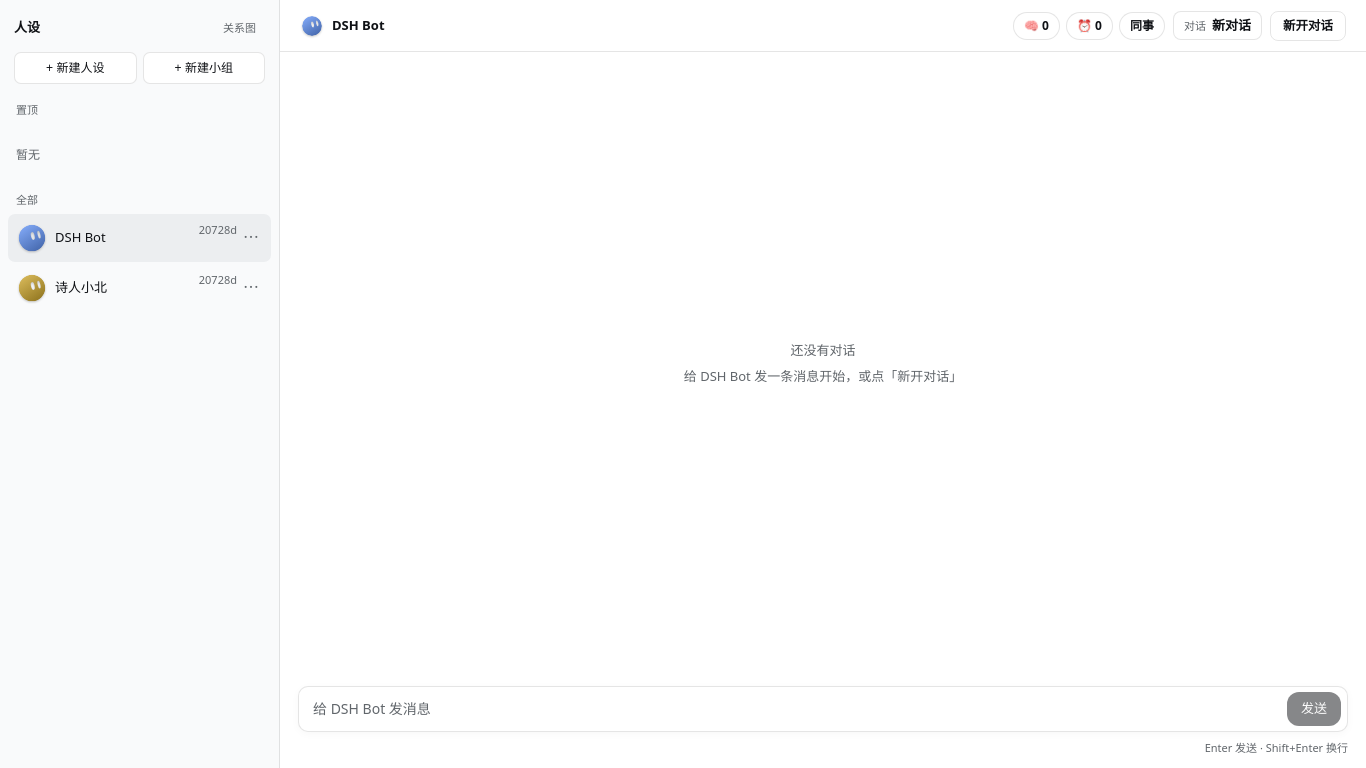
Test case: App roster load › shows an inline error bar when delete fails and keeps the row
The width and height of the screenshot is (1366, 768).
Expected: the element with test id "roster-row-shiren-xiaobei" is shown, [8,264,271,312]
Click the button with test id "roster-menu-shiren-xiaobei" at [251, 288], box [239,276,263,300]
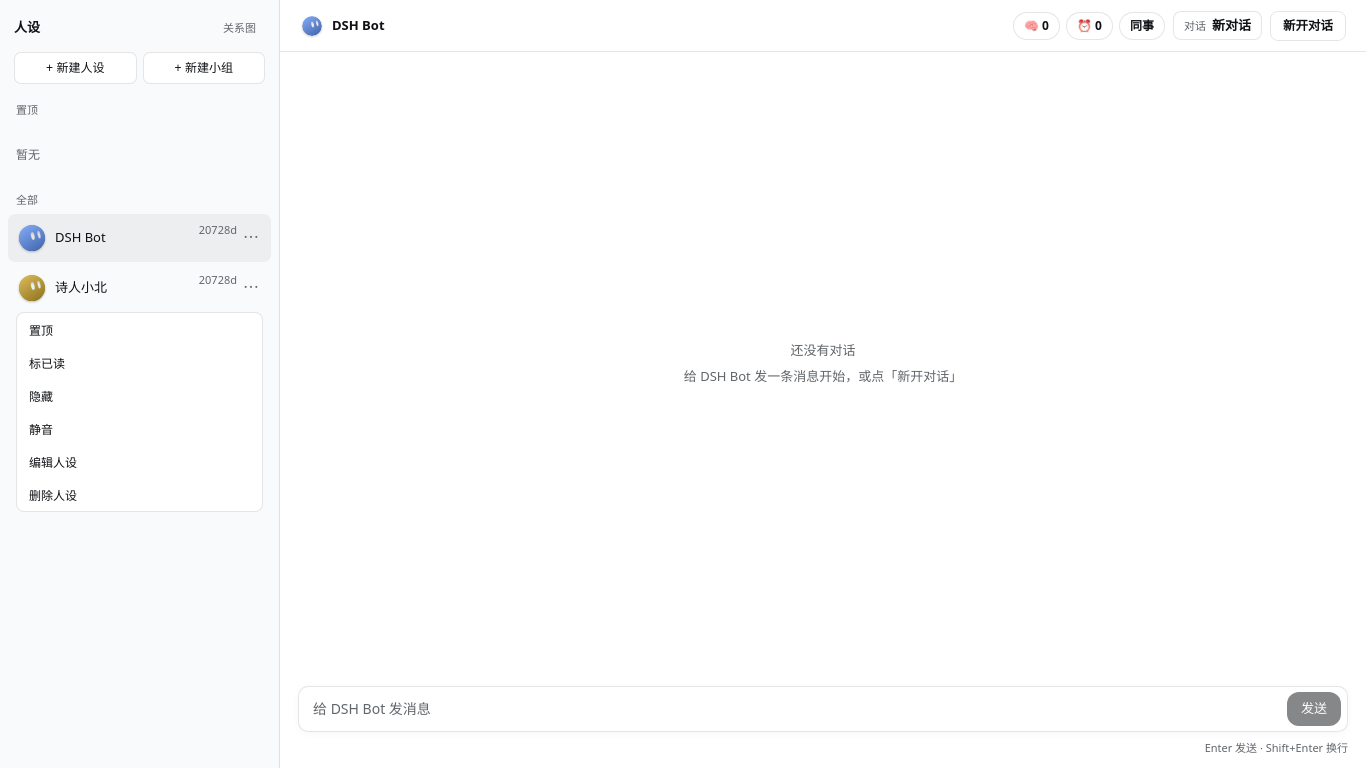
Click the button with test id "roster-delete-shiren-xiaobei" at [140, 494], box [17,478,262,511]
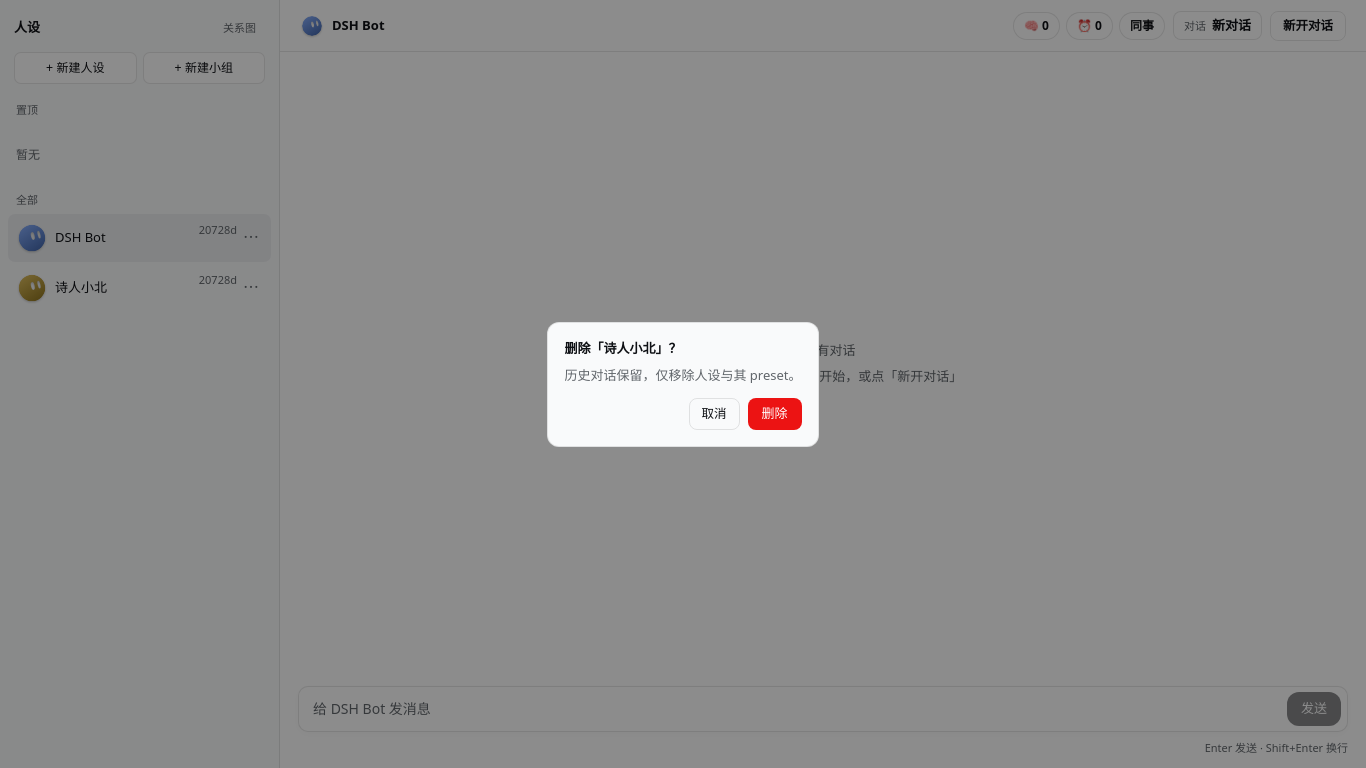
Click the button with test id "roster-delete-ok" at [774, 414], box [748,398,802,430]
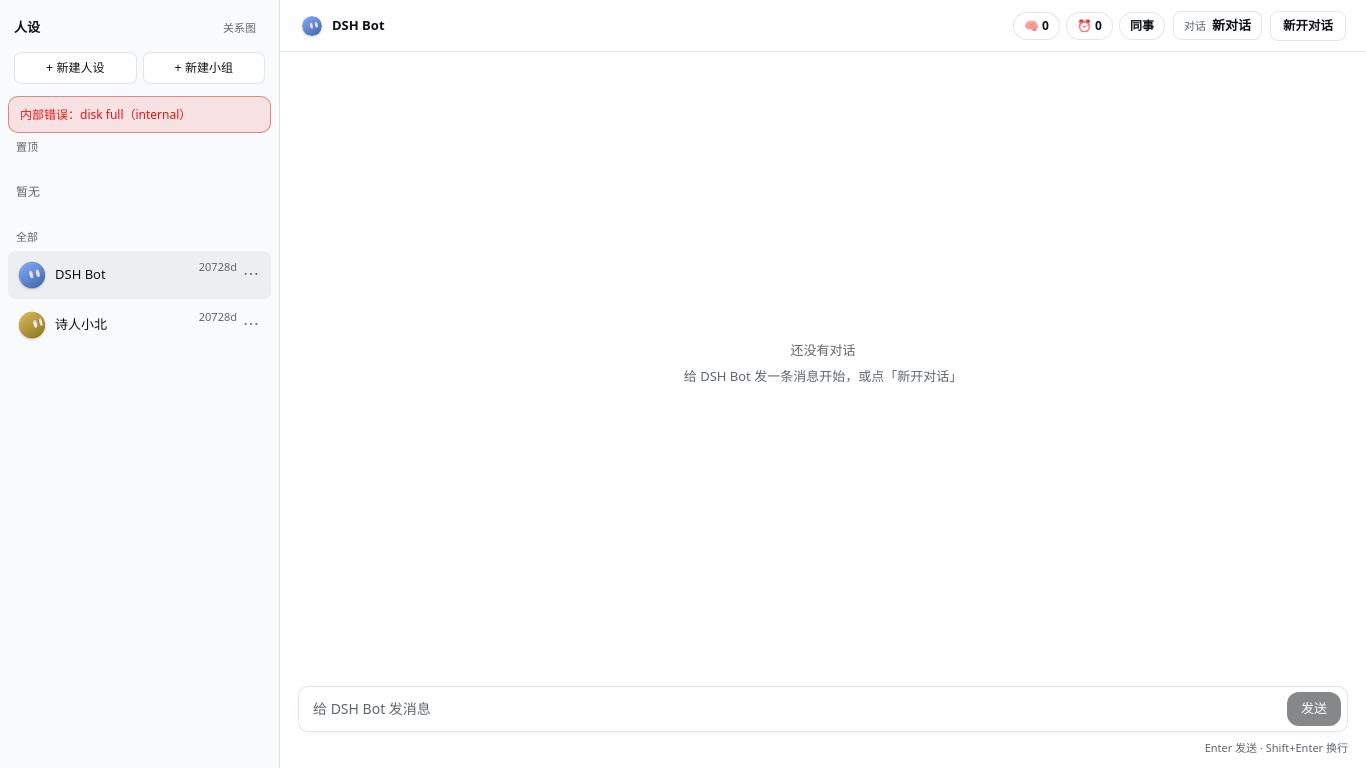
Expected: the element with test id "roster-row-shiren-xiaobei" is shown, [8,301,271,349]
Now the text with test id "workbench-action-error" shows "disk full", box [20,106,191,123]
